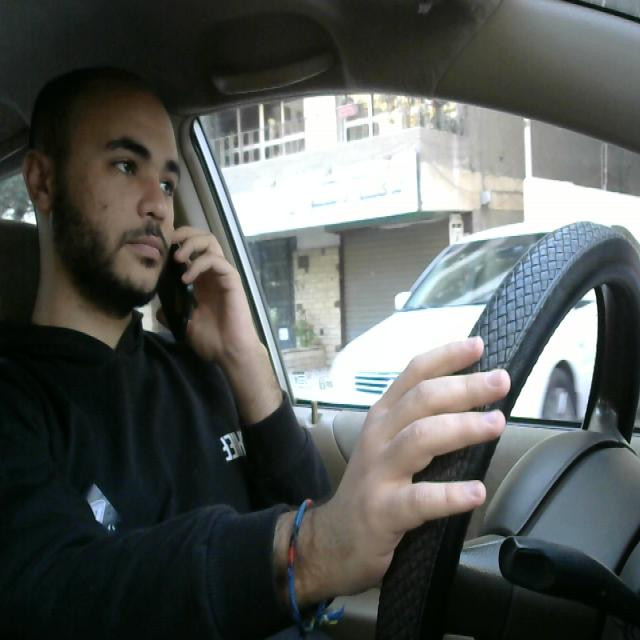mobile use: (145, 232, 205, 346)
